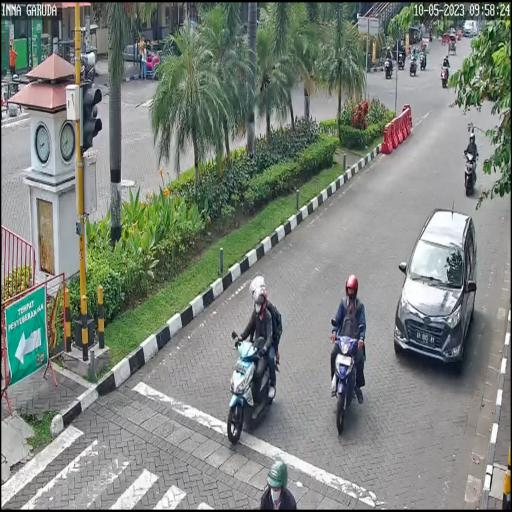mobil: (394, 208, 478, 379)
motor: (229, 326, 279, 450), (331, 318, 367, 433), (460, 148, 480, 198)
